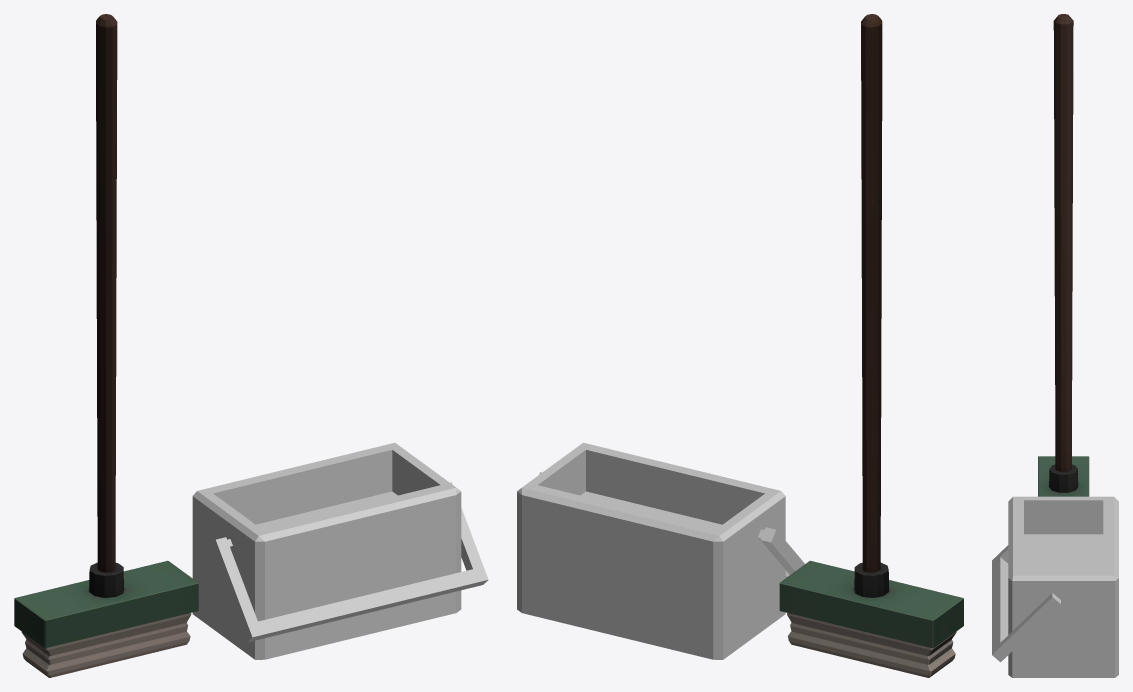
Rendered from Saux_Balet.fbx.
3 renders of one model, left to right at view 1: azimuth 30°, elevation 25°; view 2: azimuth 150°, elevation 25°; view 3: azimuth 270°, elevation 25°, orthographic. The views are drawn at different scales.
Parts seen in each view (by area): view 1: Cube.001, Cylinder; view 2: Cube.001, Cylinder; view 3: Cube.001, Cylinder.
Boxes of the visible parts, box(x1,y1,x2,y2) form: Cube.001: box(192, 442, 488, 659); Cylinder: box(14, 14, 198, 677); Cube.001: box(517, 442, 804, 659); Cylinder: box(779, 14, 963, 677); Cube.001: box(992, 496, 1118, 677); Cylinder: box(1038, 14, 1089, 496).
Bounding box in the file's own units: 343 × 512 × 111.
